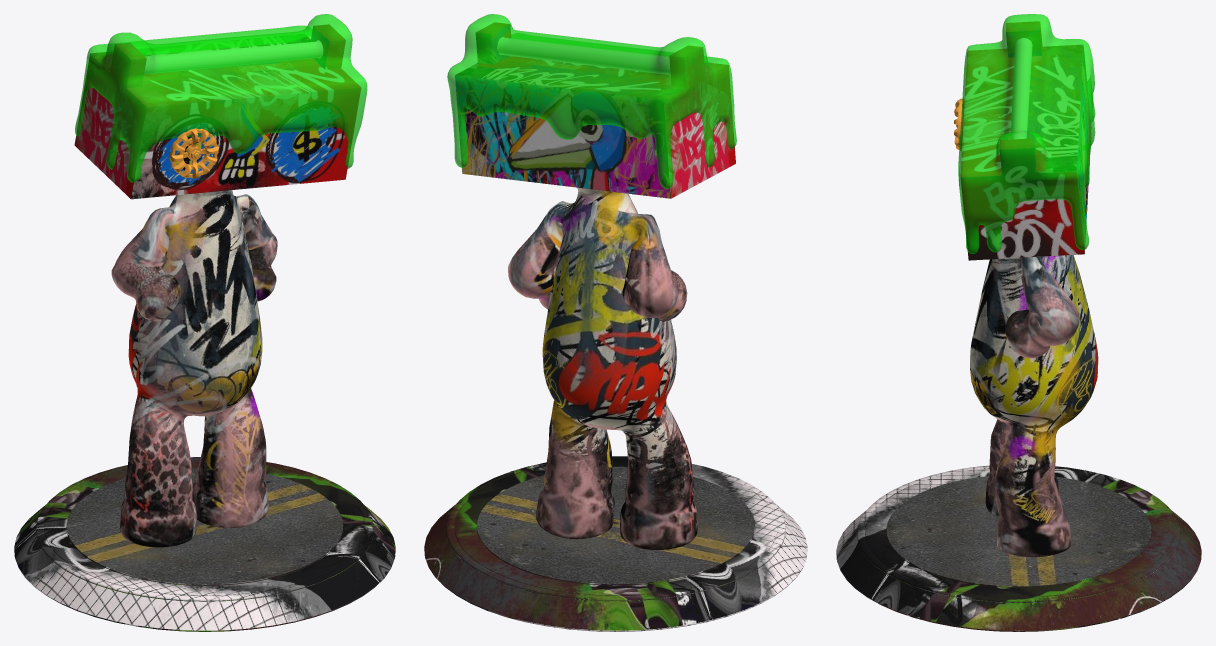
3 views of the same model, side by side, from view 1: azimuth 30°, elevation 25°; view 2: azimuth 150°, elevation 25°; view 3: azimuth 270°, elevation 25° (orthographic). The views are drawn at different scales.
Size of the model in its own units: 1.45 by 2.21 by 1.45.
6 materials, 5 textured.
